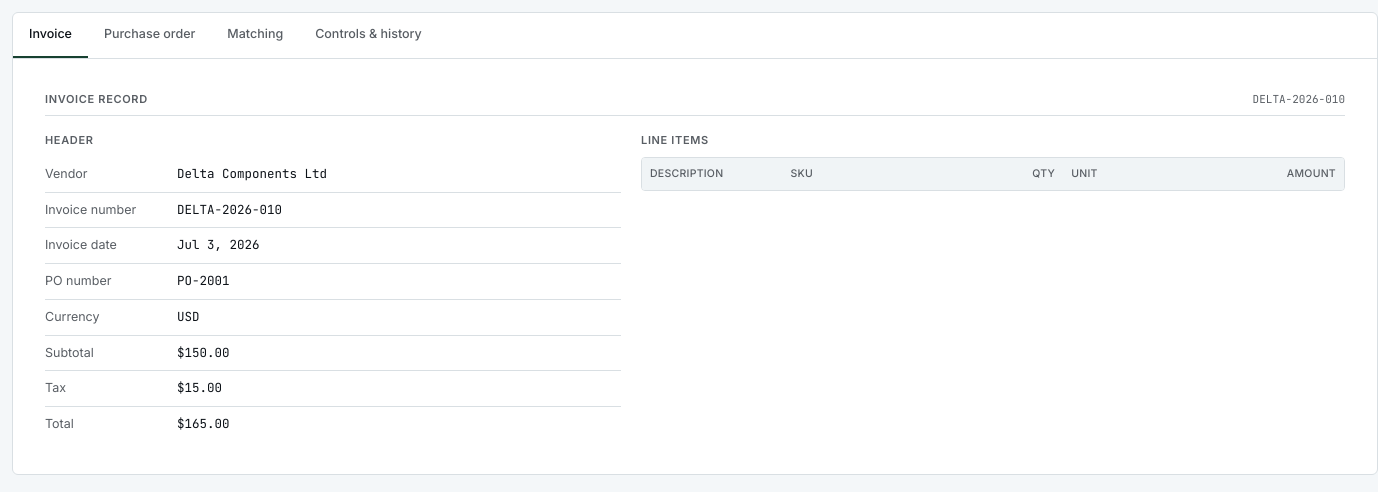
Scenario: RunDetailTabs › uses a plain-language PO reconciliation for receipt capacity
What coordinates should you click on to do the following:
click the tab "Purchase order"
I would click on:
 (150, 35)
Its box is left=88, top=13, right=211, bottom=58.
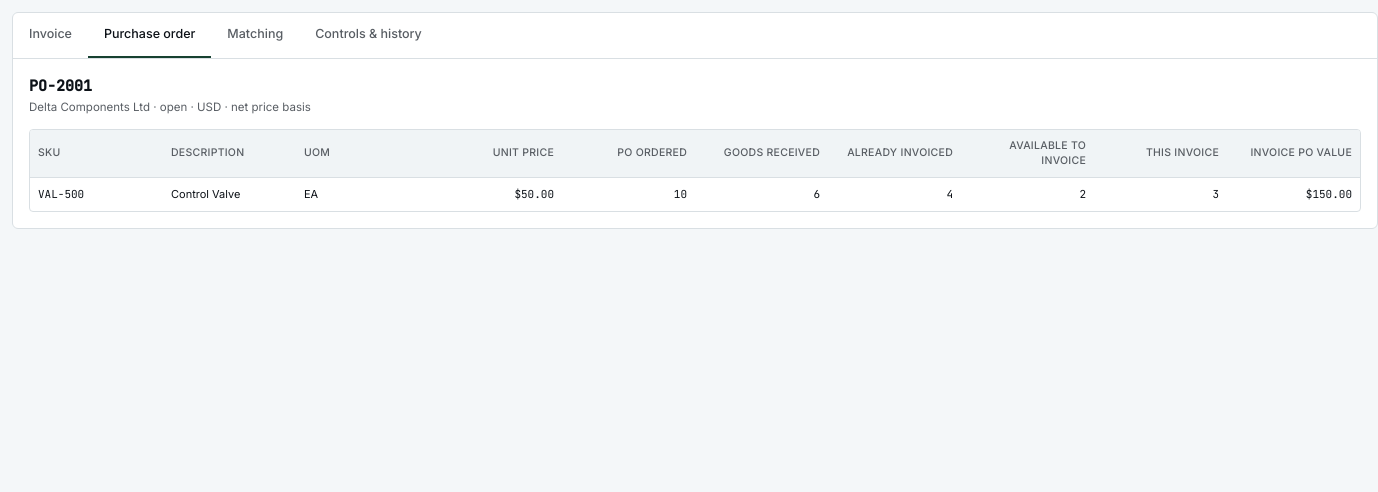
Now the column heading "PO ordered" is shown, box left=562, top=130, right=695, bottom=178
Now the column heading "Goods received" is shown, box left=695, top=130, right=828, bottom=178
Now the column heading "Already invoiced" is shown, box left=828, top=130, right=961, bottom=178
